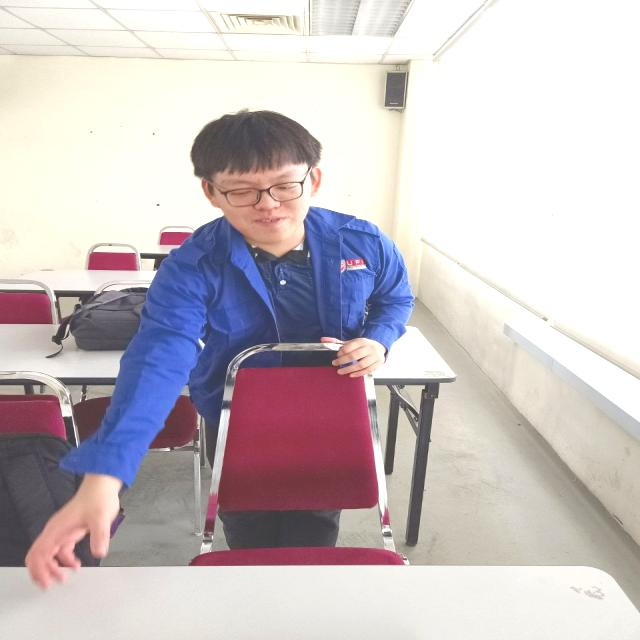person_with_labcoat: (27, 110, 413, 588)
